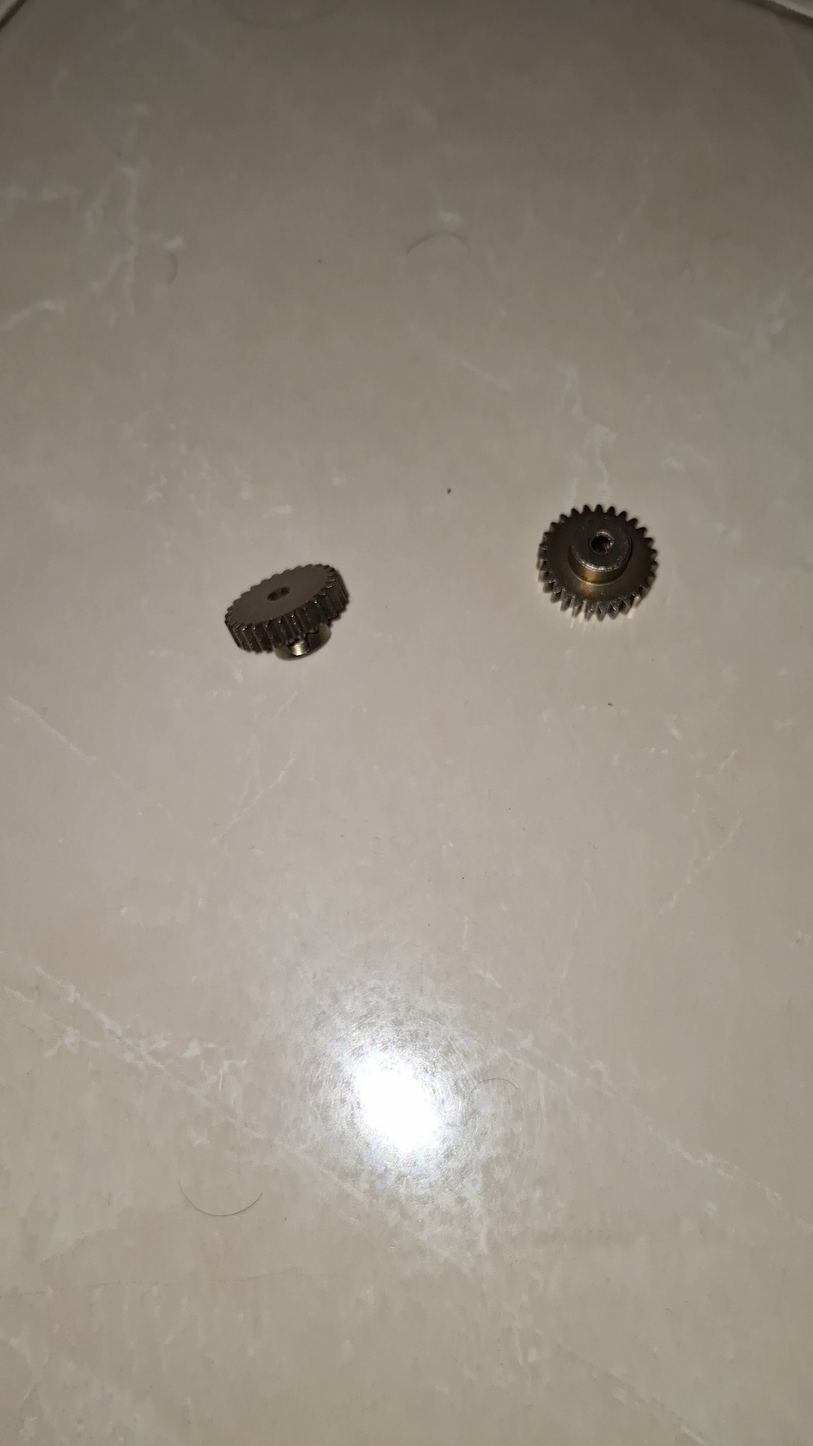spur gear: (539, 505, 656, 617), (225, 565, 348, 657)
